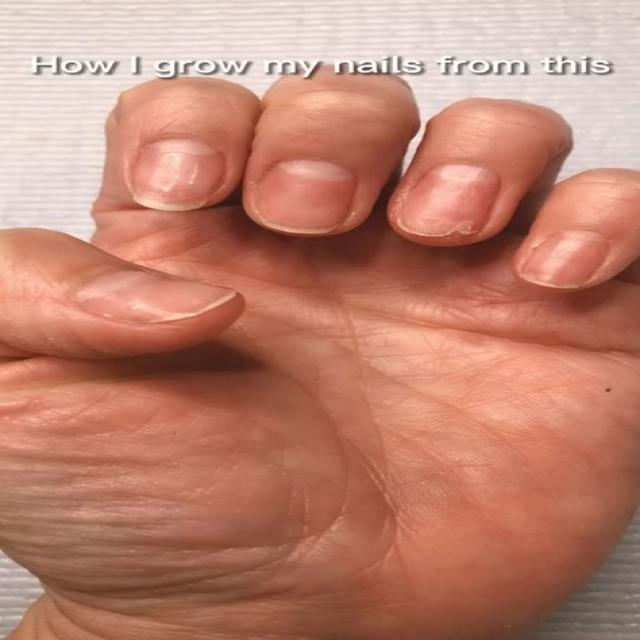Fingernail: (77, 269, 235, 323), (400, 164, 499, 237), (254, 159, 355, 230), (133, 138, 224, 208), (523, 229, 609, 287)
